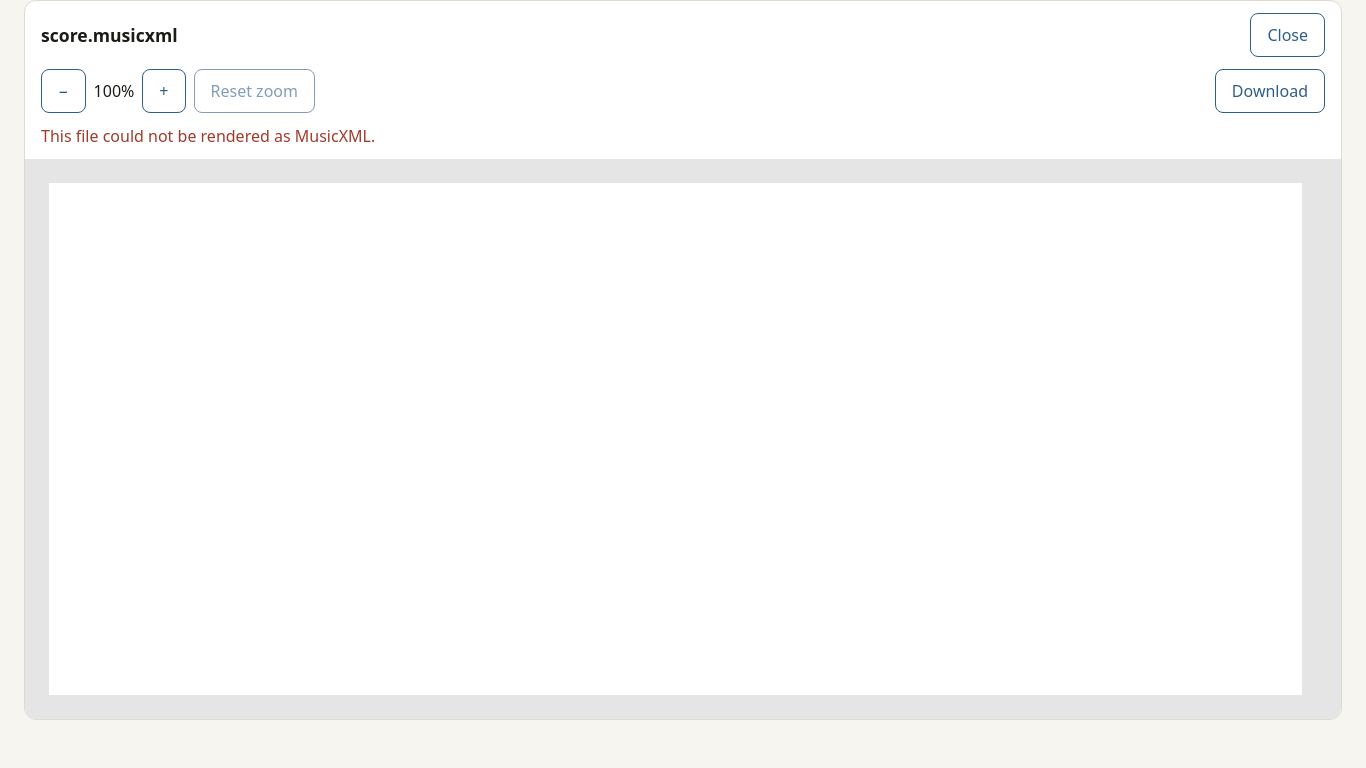
score preview › keeps the download action available when engraving fails
Expected: the message "This file could not be rendered as MusicXML." is shown, 41,125 -> 375,147
Click the button "Download" at (1270, 91), box 1215,69 -> 1325,113
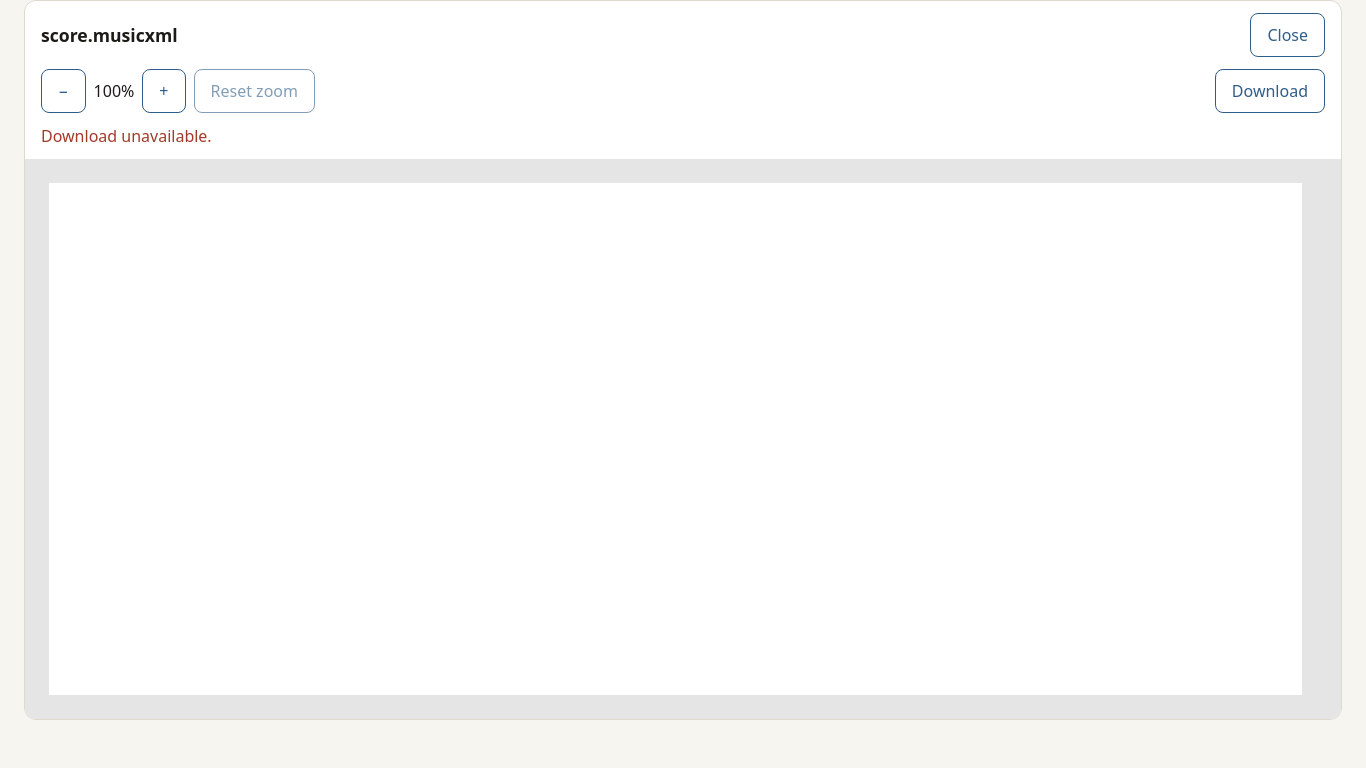
Result: the message "Download unavailable." is shown at 41,125 -> 212,147
